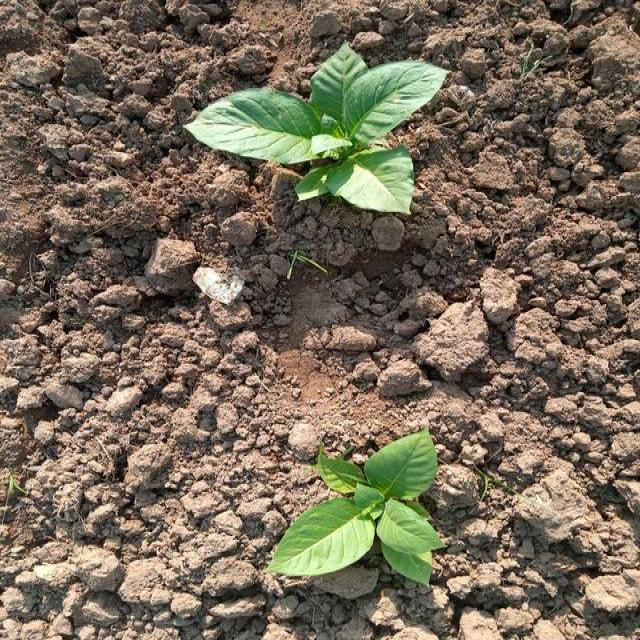crop: (195, 43, 432, 215), (258, 443, 442, 580)
